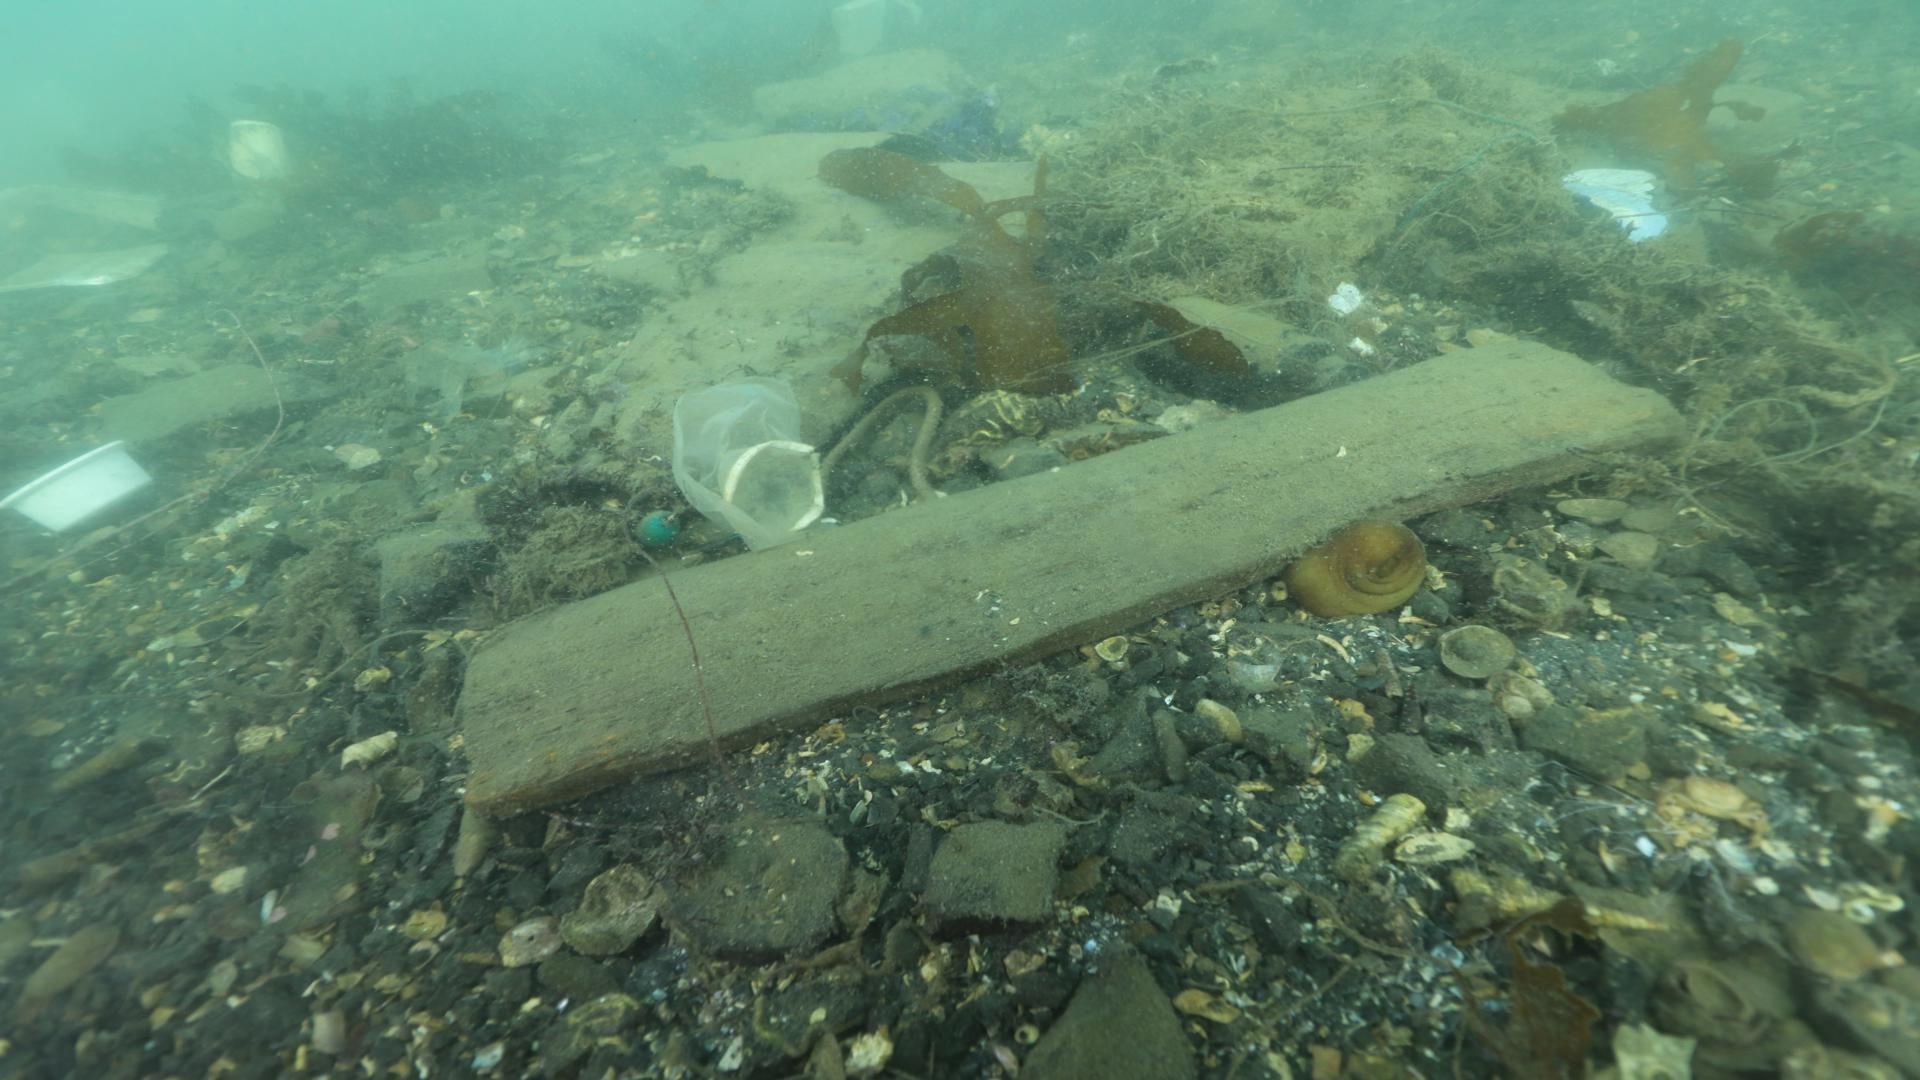wood: (452, 335, 1692, 825)
